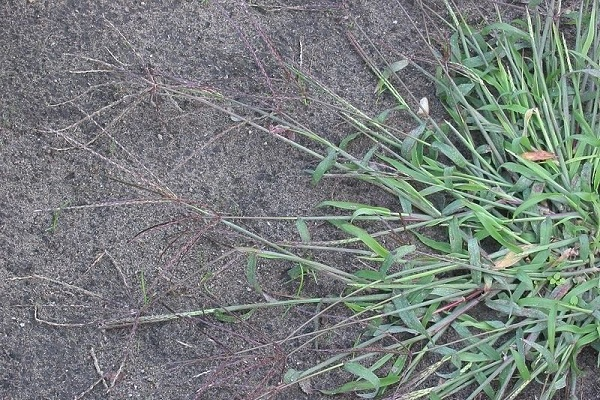crabgrass: (320, 12, 600, 389)
